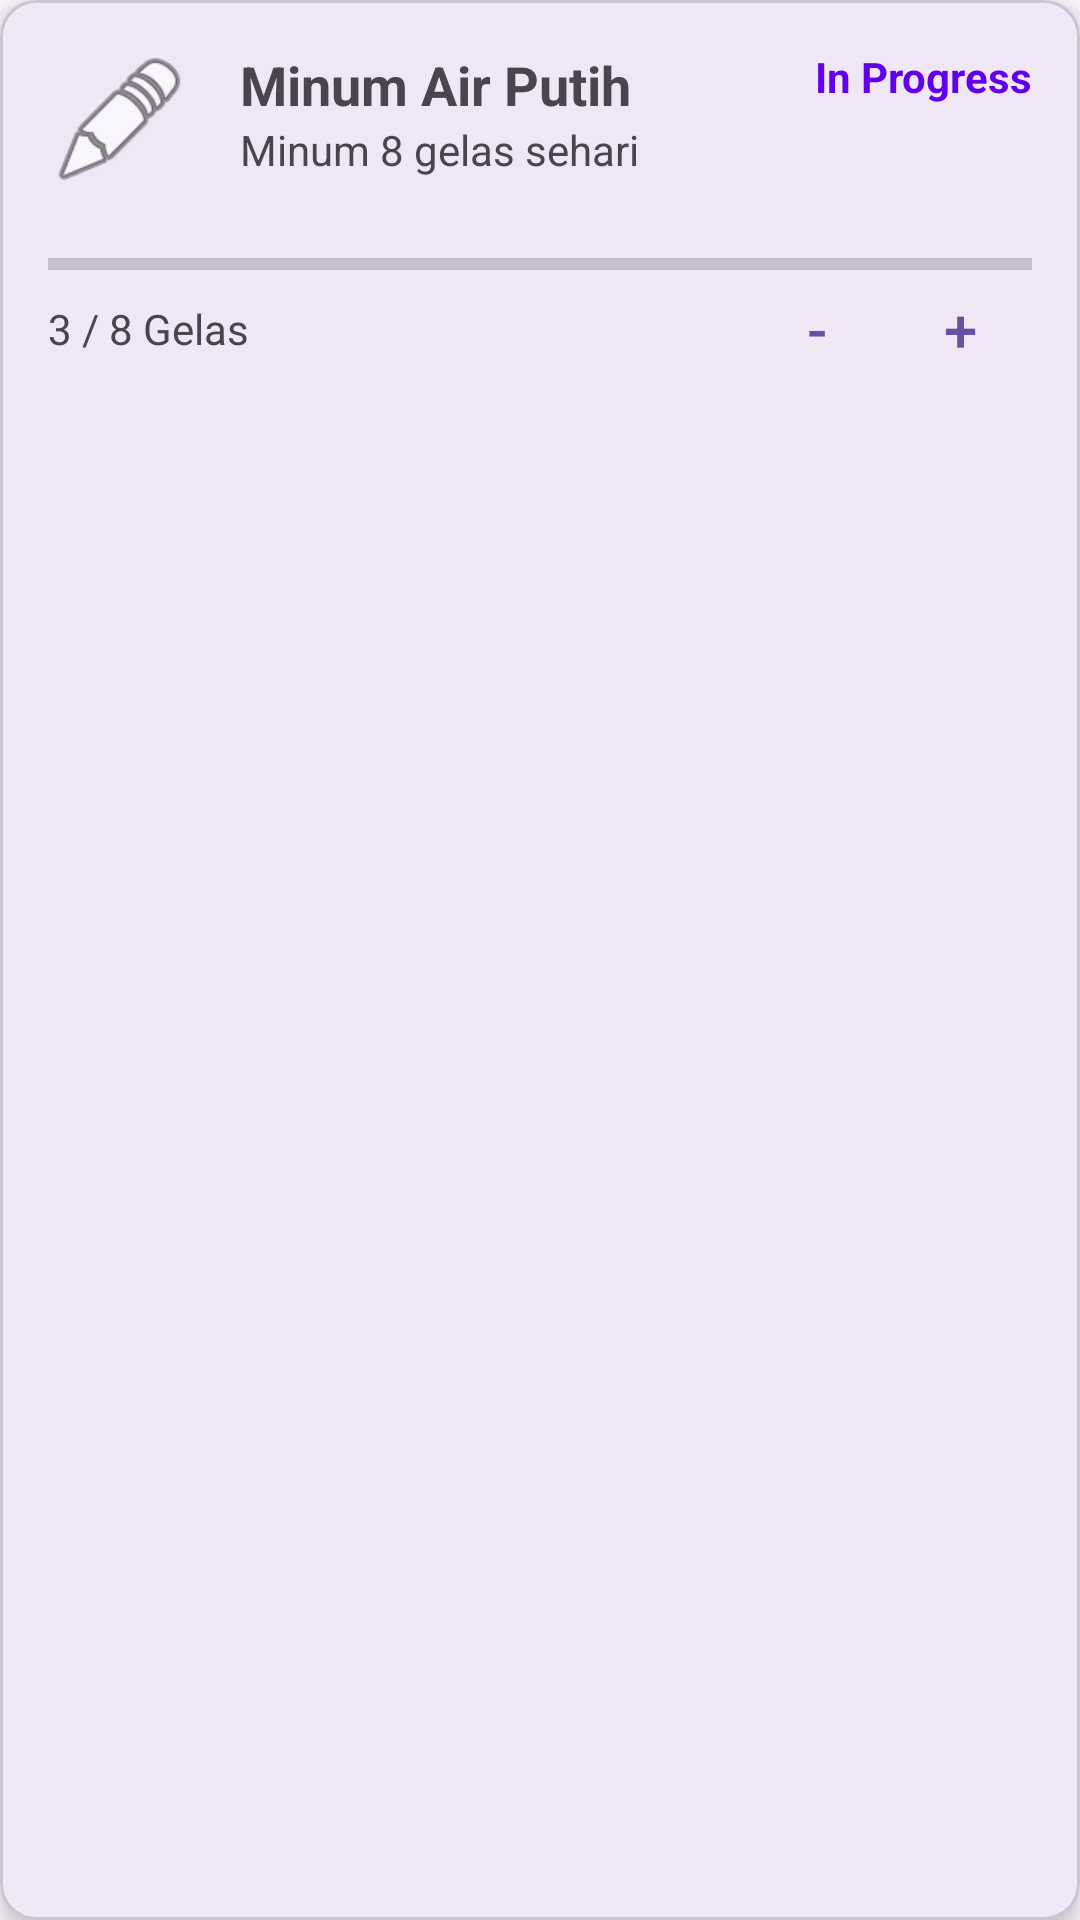

Named icons in this screenshot (1080px×1920px) and their bounding boxes, (x1,y1,x2,y2):
edit: (58,58,180,180)
